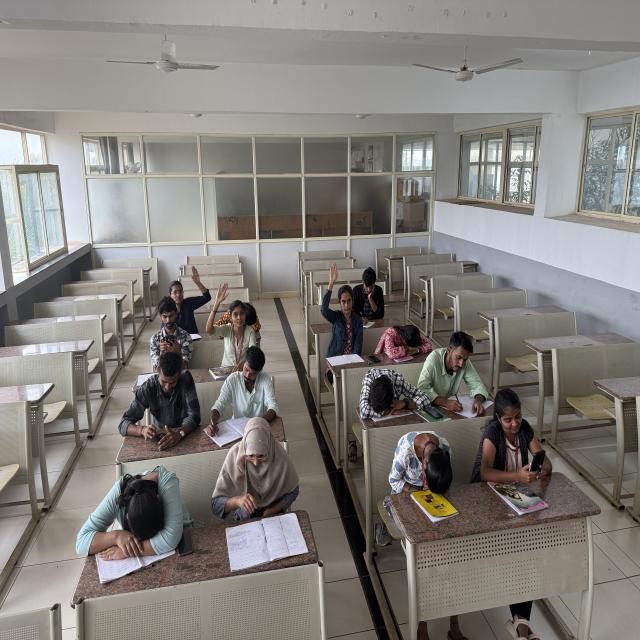Hand Rising: (204, 278, 251, 360), (320, 260, 359, 345), (169, 260, 210, 330)
Reading: (212, 414, 301, 546)
Sleeping: (70, 460, 195, 560), (380, 423, 462, 503), (355, 362, 431, 418), (369, 322, 435, 361), (221, 299, 264, 333)
Using Phone: (472, 382, 555, 490), (115, 347, 201, 448), (147, 293, 193, 367)
Writing: (414, 326, 498, 426), (207, 342, 270, 436), (349, 266, 386, 331)
